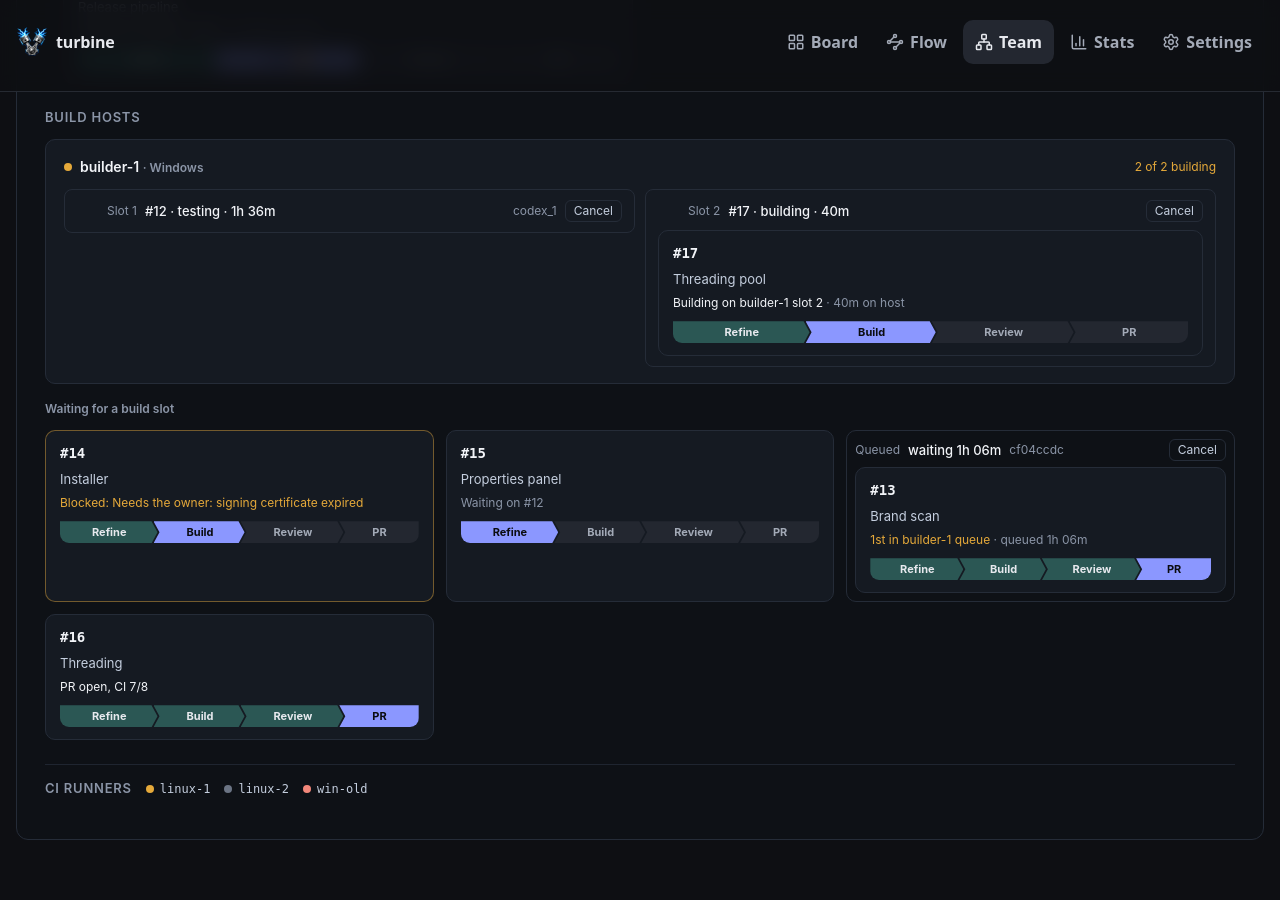
Test case: shows Cancelling… with a spinner while the request runs, then Cancelled and drops the queued run
This screenshot has width=1280, height=900.
Later steps or results of the test are not shown.
(page scrolled)
Click the button with class "team-cancel" next to "cf04ccdc".
click(1197, 450)  # box [1169,439,1226,461]
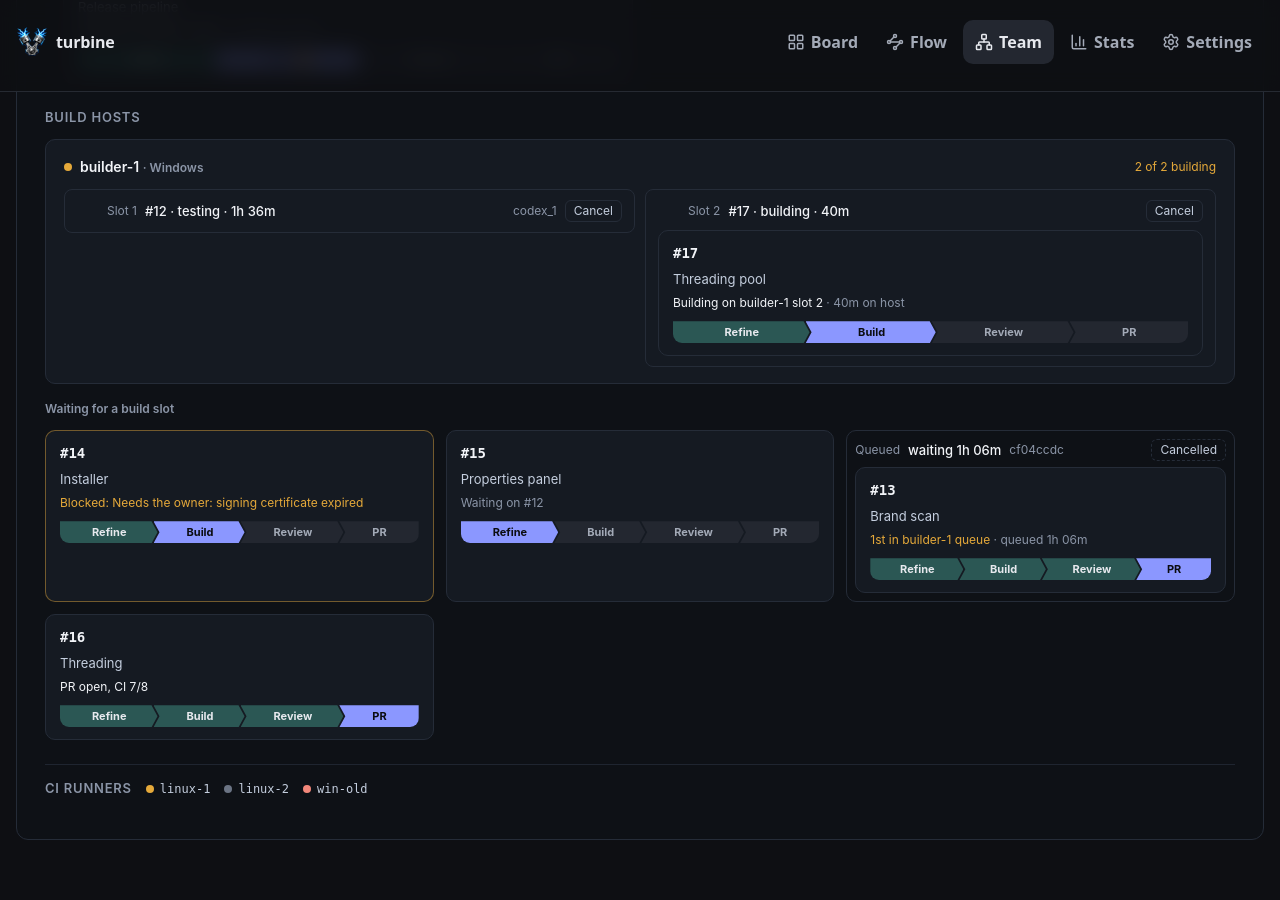
Check: the picture is shown, box [16,26,48,58]
Check: the element named "Waiting for a build slot" shows "Cancelled", box [1160,442,1217,457]
